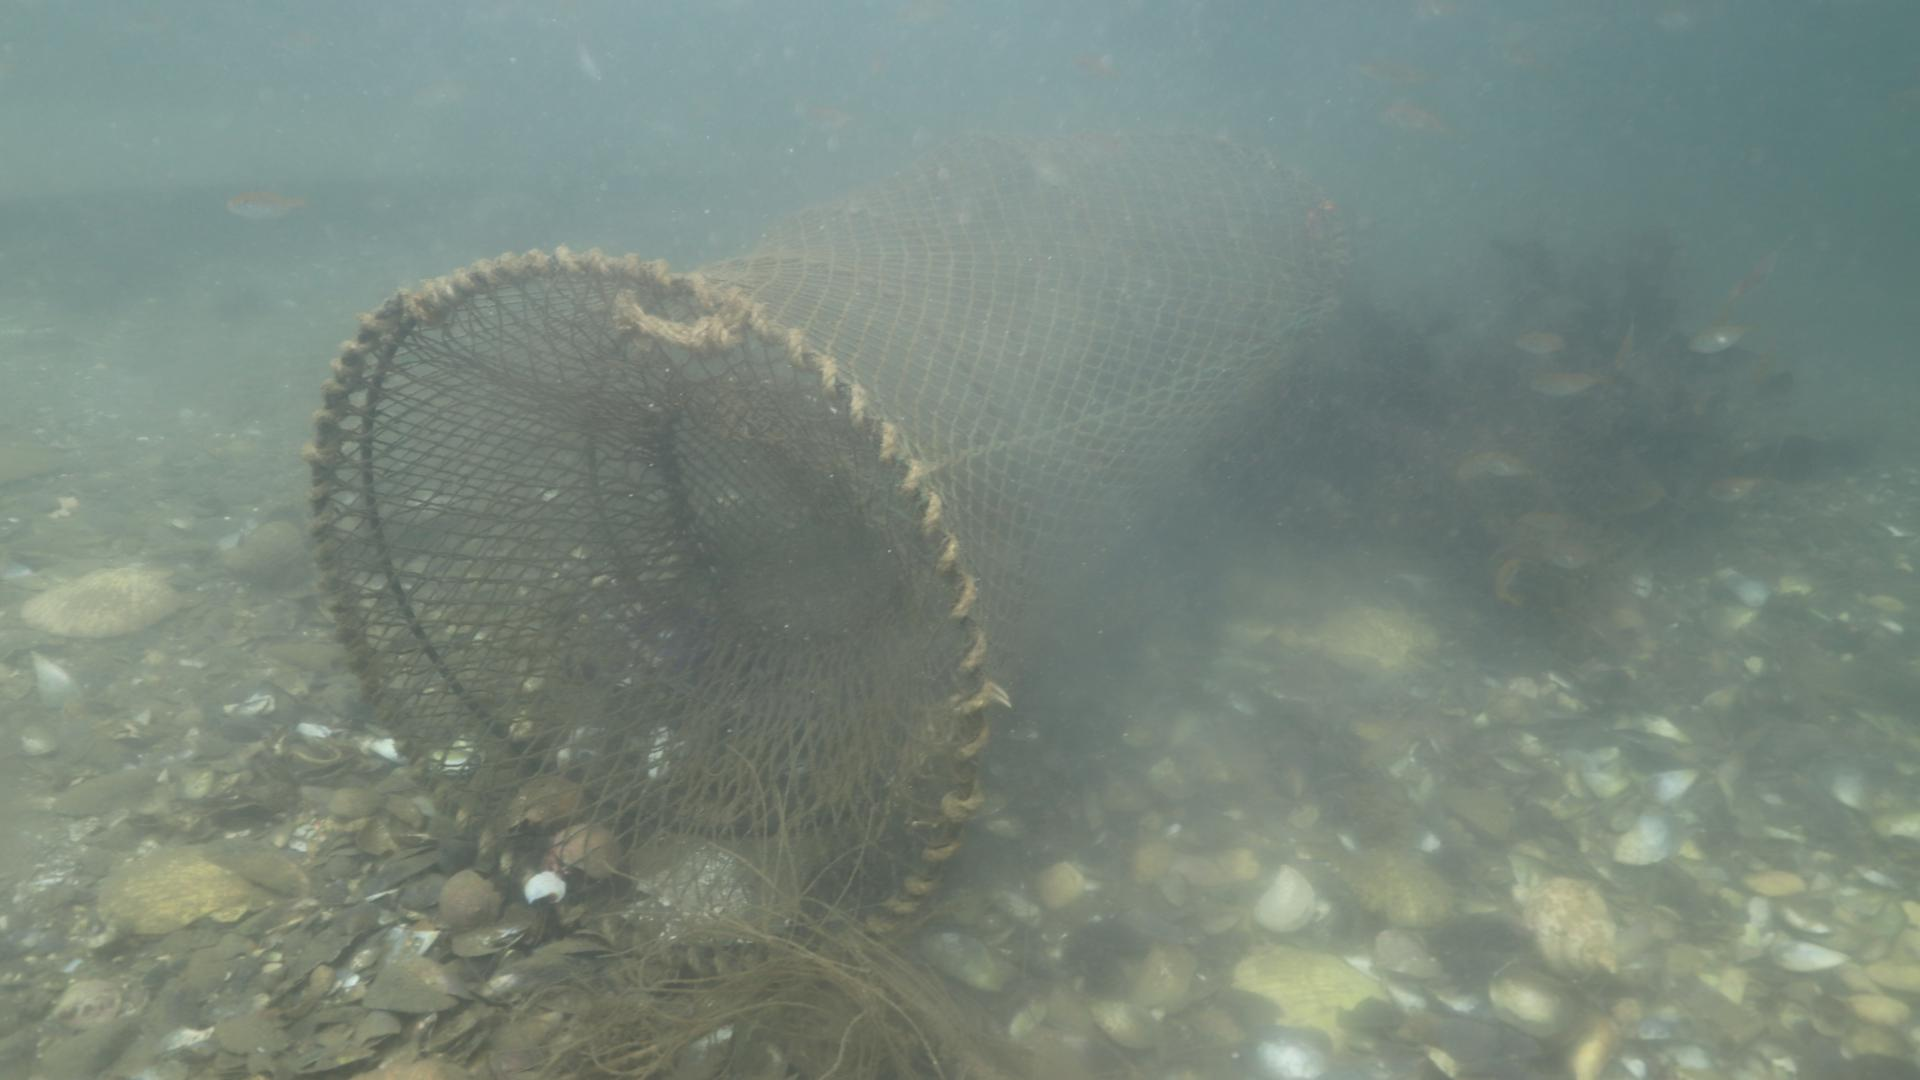spring fish trap: (307, 115, 1352, 981)
